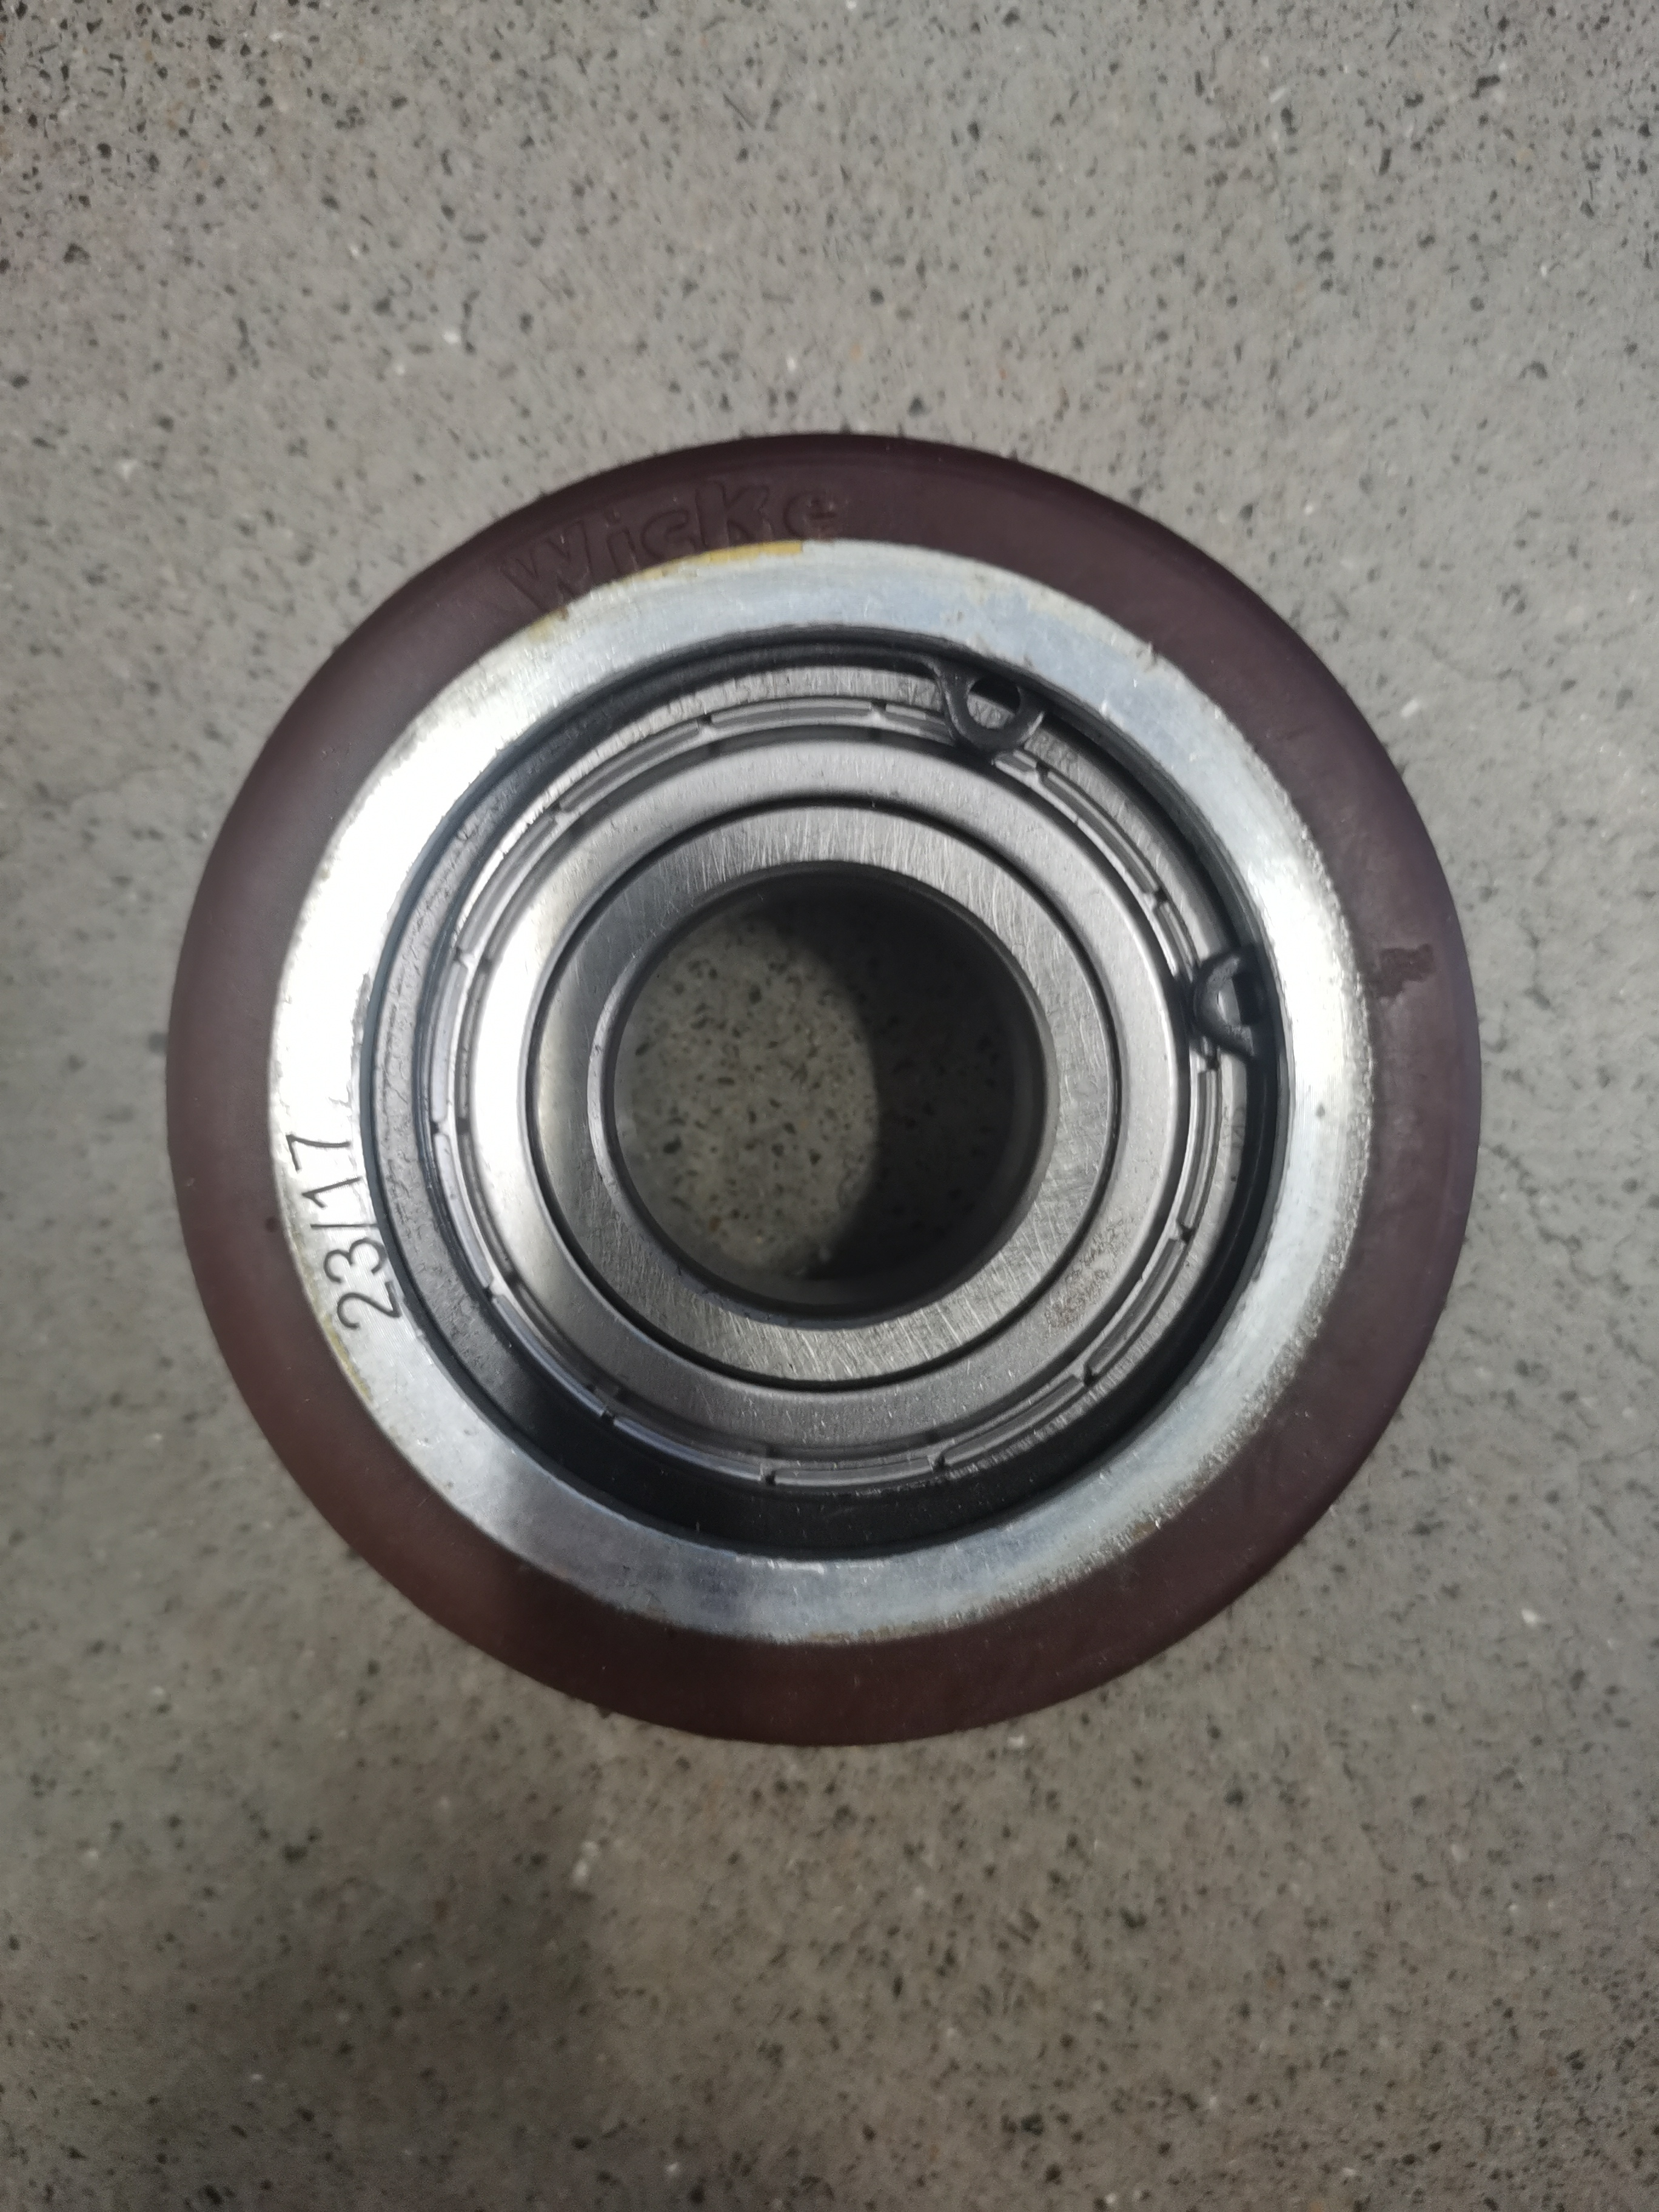good_wheel: (129, 406, 1448, 1735)
